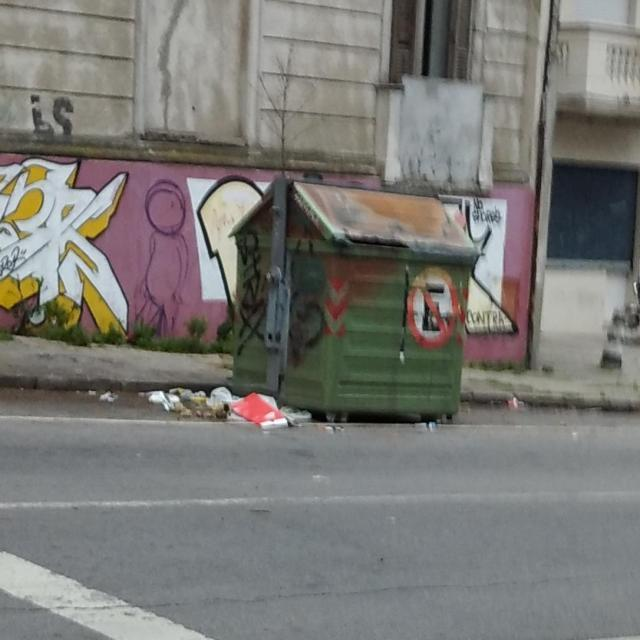garbage: (102, 348, 302, 444)
